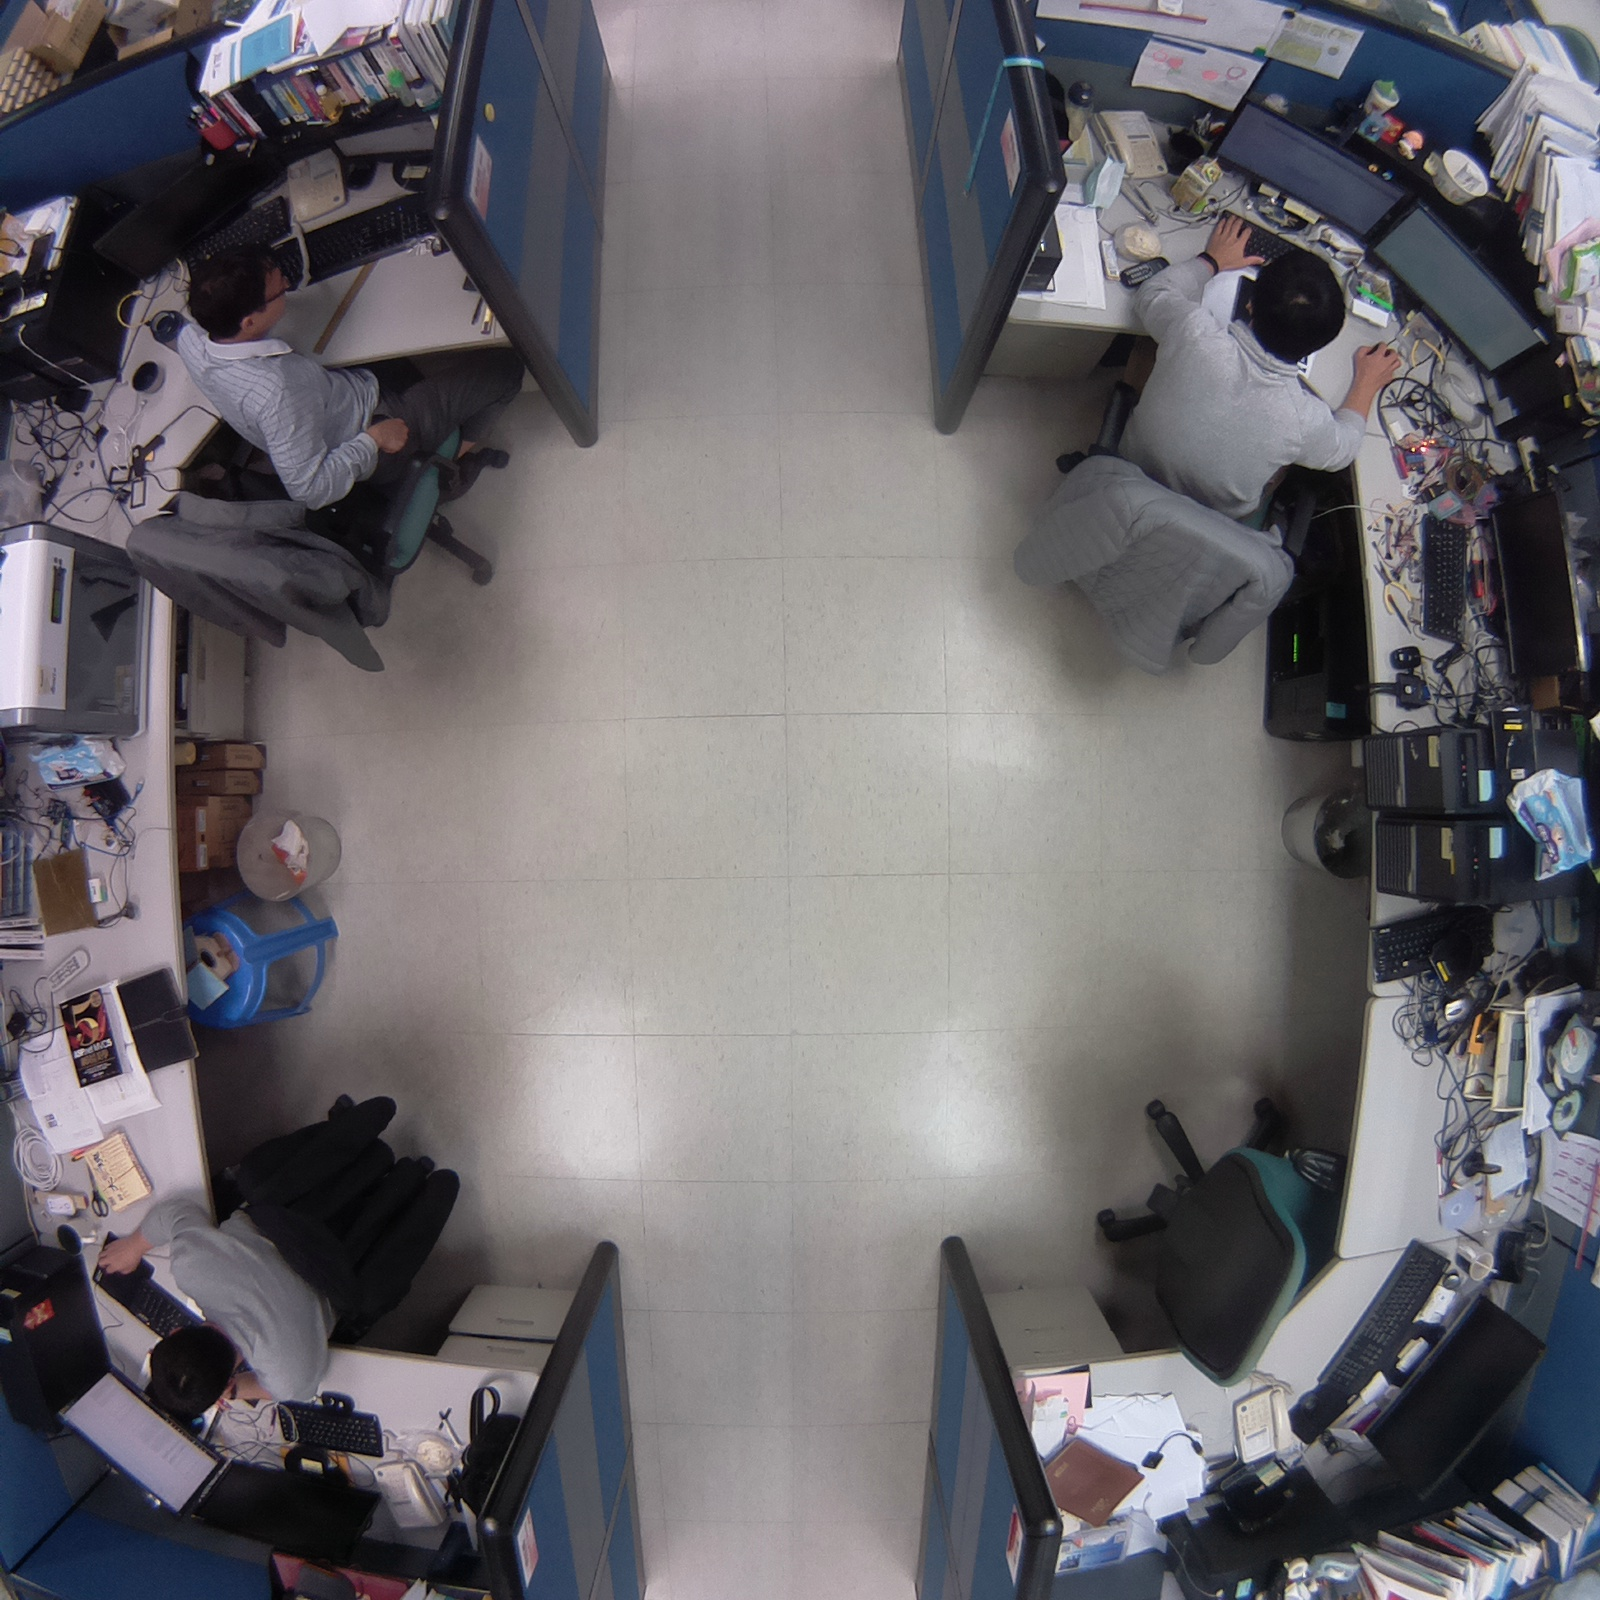chair: (1063, 1088, 1373, 1399)
head: (180, 229, 300, 353), (1238, 242, 1353, 363), (144, 1321, 251, 1427)
sitting: (94, 238, 522, 686), (996, 234, 1395, 693), (82, 1073, 473, 1426)
